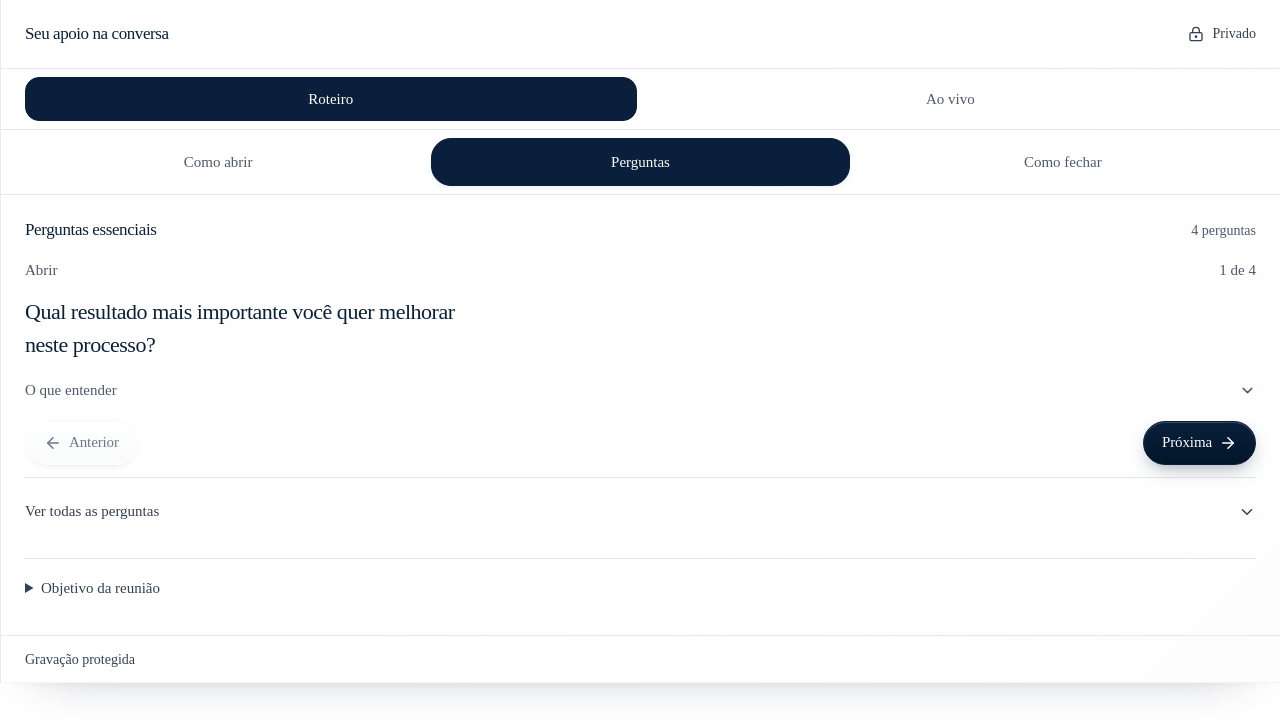
Test: consulta privada do roteiro › esclarece o limite da privacidade ao compartilhar a tela
The image size is (1280, 720).
Step 1. Click the heading "Privado" → [1222, 34], box [1188, 26, 1256, 42]
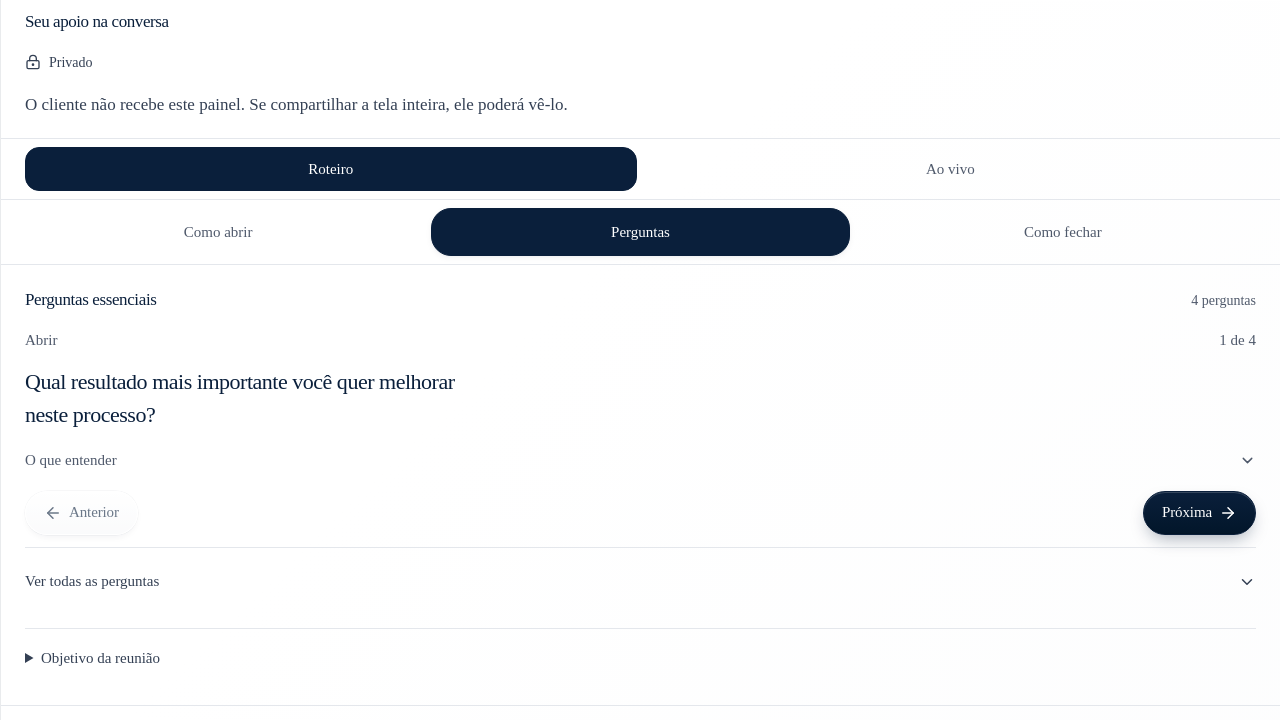
expect the text "Se compartilhar a tela inteira, ele poderá vê-lo" is shown: met, box [25, 95, 568, 114]
